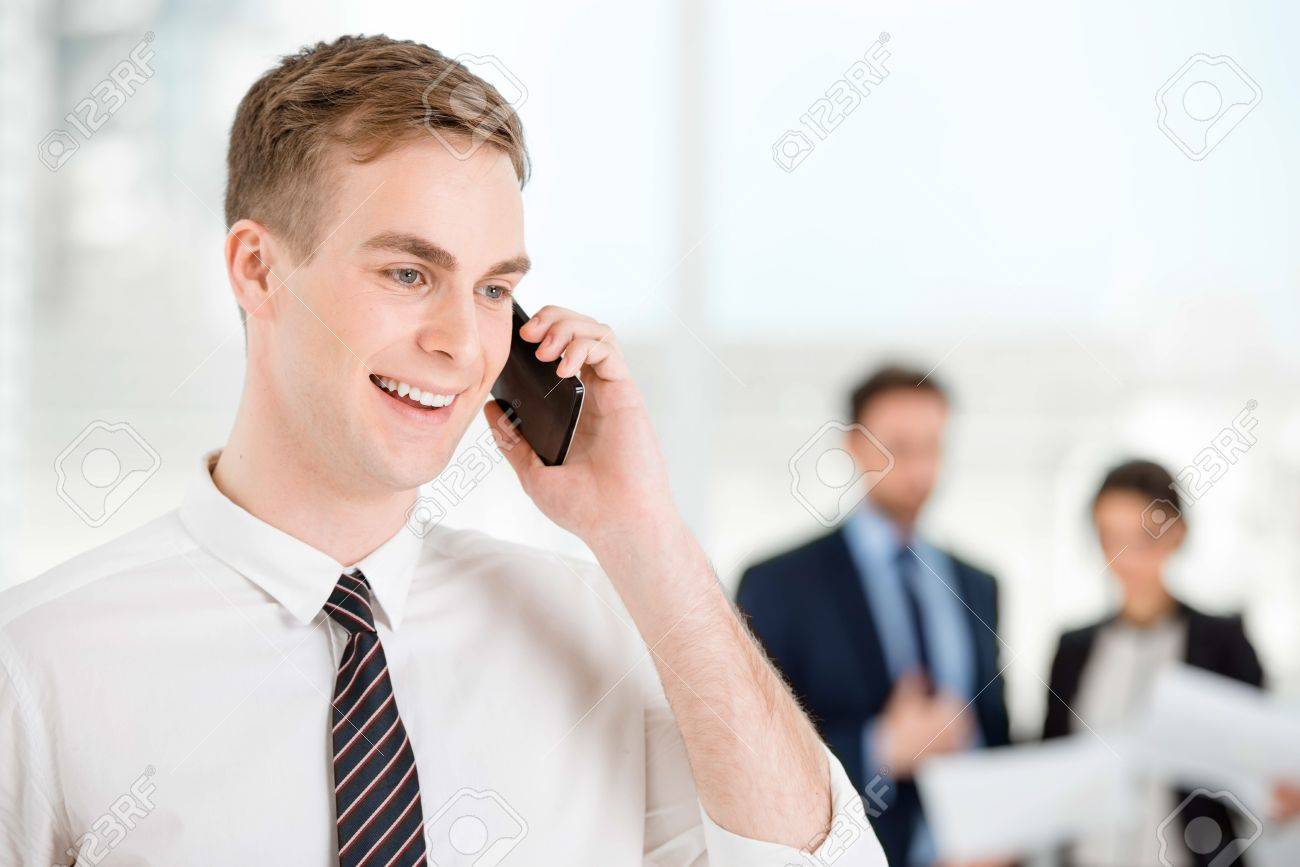phone: (486, 293, 654, 496)
talk: (348, 223, 670, 540)
